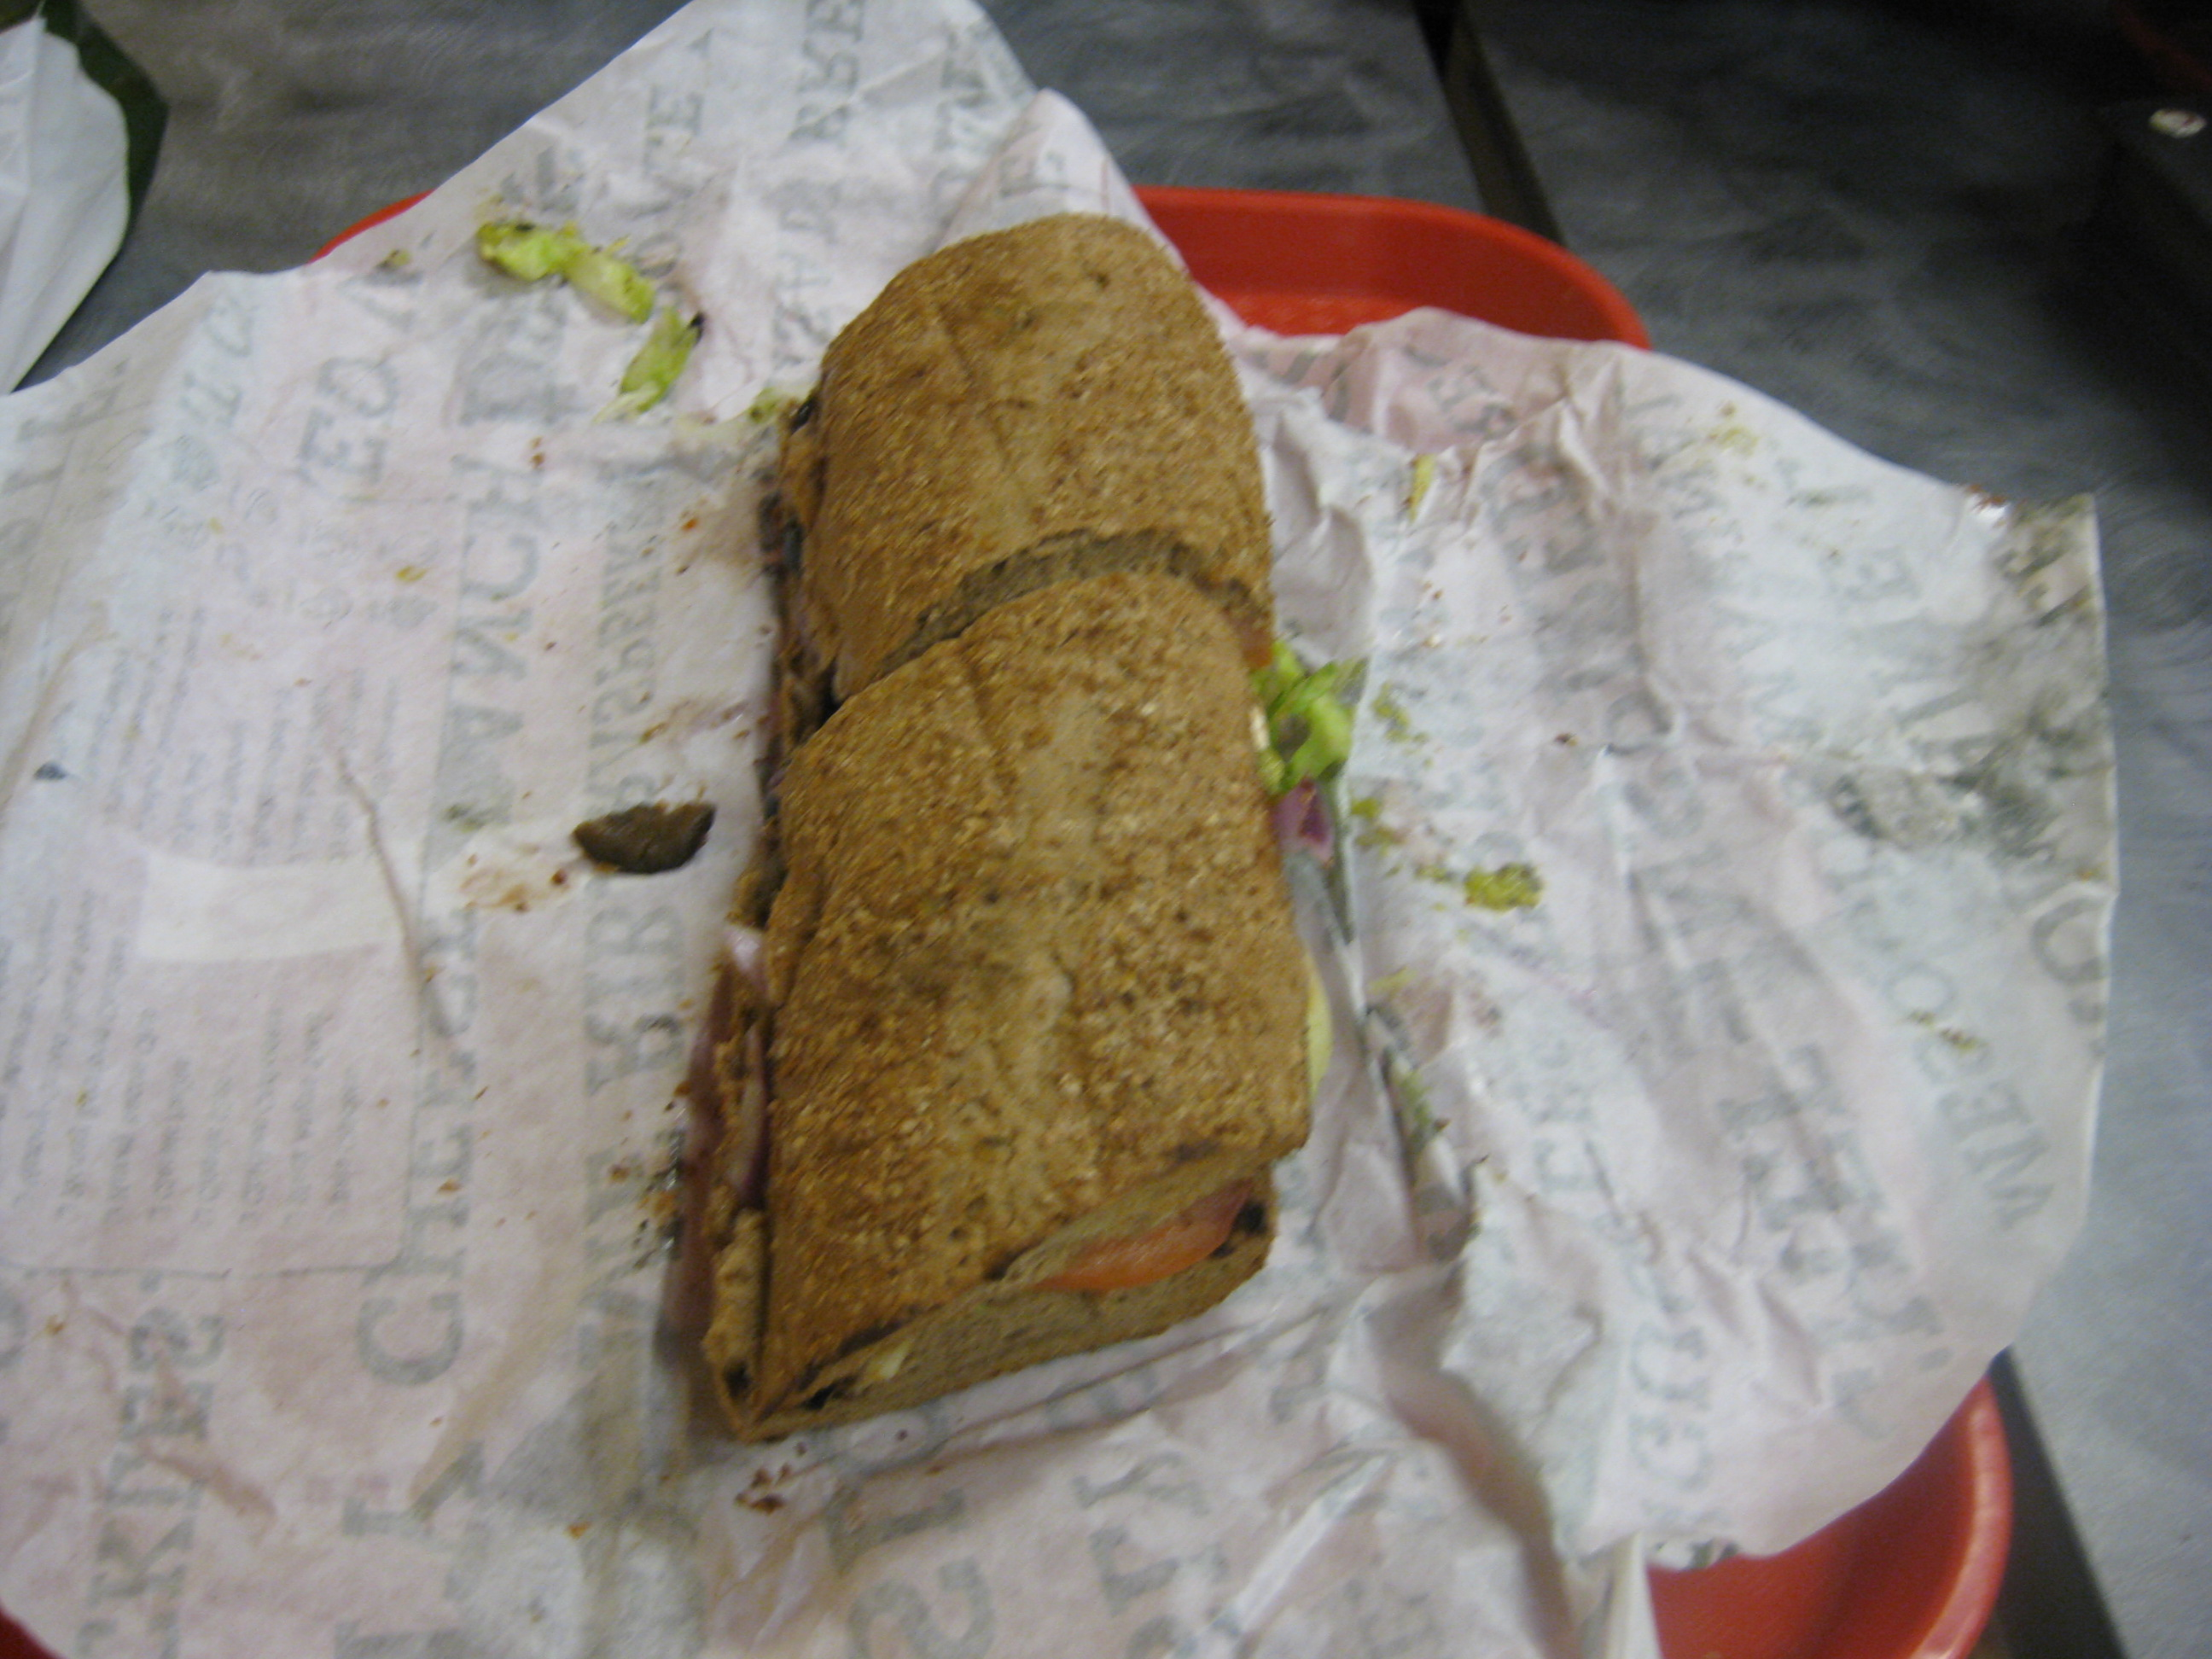sub: (695, 195, 1324, 1454)
